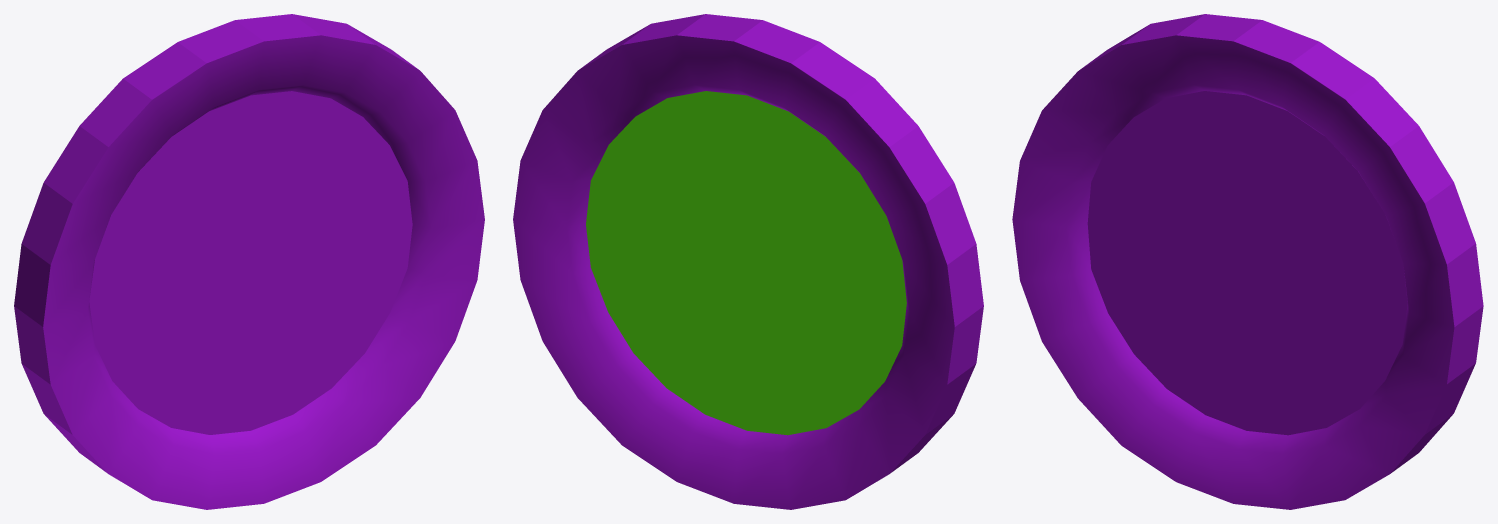
File: Coin_2MatIDs.FBX
3 renders of one model, left to right at view 1: azimuth 30°, elevation 25°; view 2: azimuth 150°, elevation 25°; view 3: azimuth 330°, elevation 25°, orthographic.
Visible parts, largest first — view 1: Coin_2MatIDs; view 2: Coin_2MatIDs; view 3: Coin_2MatIDs.
Boxes of the visible parts, <box> form: Coin_2MatIDs: <box>14,14,484,509</box>; Coin_2MatIDs: <box>513,14,983,509</box>; Coin_2MatIDs: <box>1012,14,1483,509</box>.
Bounding box in the file's own units: 5.69 × 5.69 × 0.6504.
